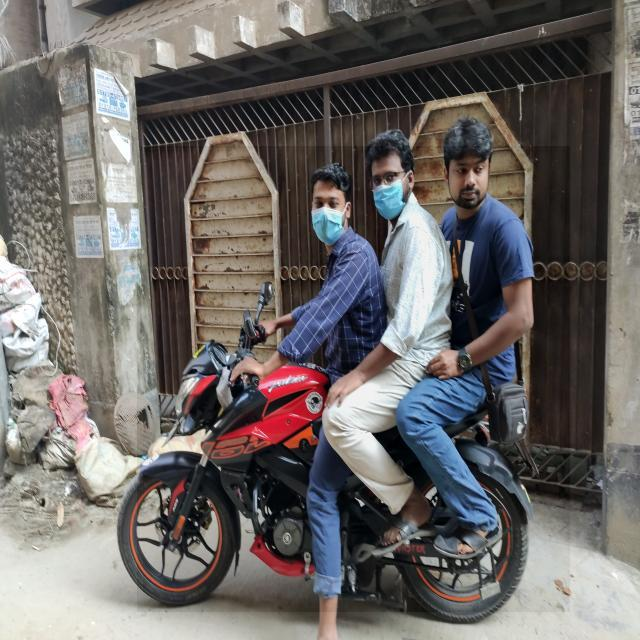Overloading: (137, 146, 570, 612)
